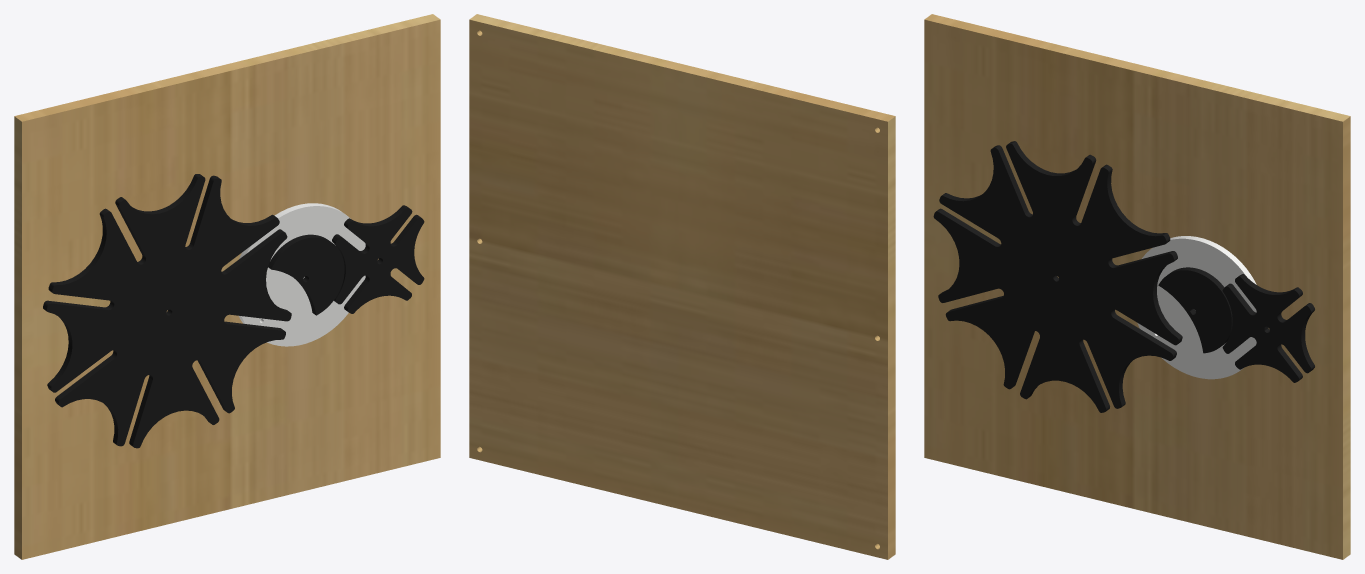
Rendered from geneva_mechanism.glb.
The picture shows the model from 3 angles, left to right: view 1: azimuth 30°, elevation 25°; view 2: azimuth 150°, elevation 25°; view 3: azimuth 330°, elevation 25°; orthographic projection.
Visible parts, largest first — view 1: _400x400panel, Body1.002, Body1, Body1.001, Body2; view 2: _400x400panel; view 3: _400x400panel, Body1.002, Body1, Body1.001, Body2.
Boxes of the visible parts, <box> form: _400x400panel: <box>14,14,440,559</box>; Body1.002: <box>43,174,291,448</box>; Body1: <box>239,203,365,346</box>; Body1.001: <box>332,205,424,313</box>; Body2: <box>268,234,344,315</box>; _400x400panel: <box>469,14,895,559</box>; _400x400panel: <box>924,14,1350,559</box>; Body1.002: <box>933,141,1182,412</box>; Body1: <box>1137,236,1256,379</box>; Body1.001: <box>1222,274,1314,382</box>; Body2: <box>1158,267,1232,353</box>.
Bounding box in the file's own units: 400 × 400 × 25.4.
4 materials, 1 textured.
